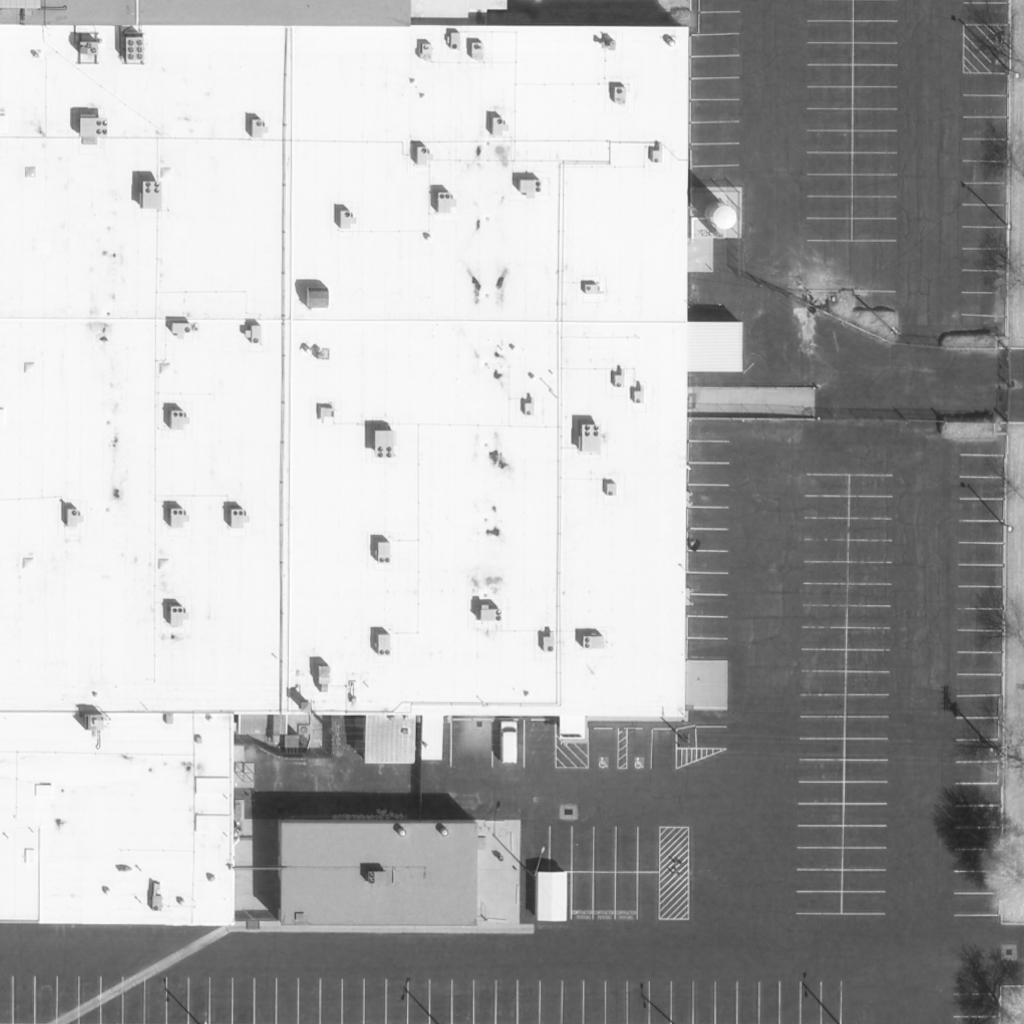vehicle: (500, 722, 518, 766)
